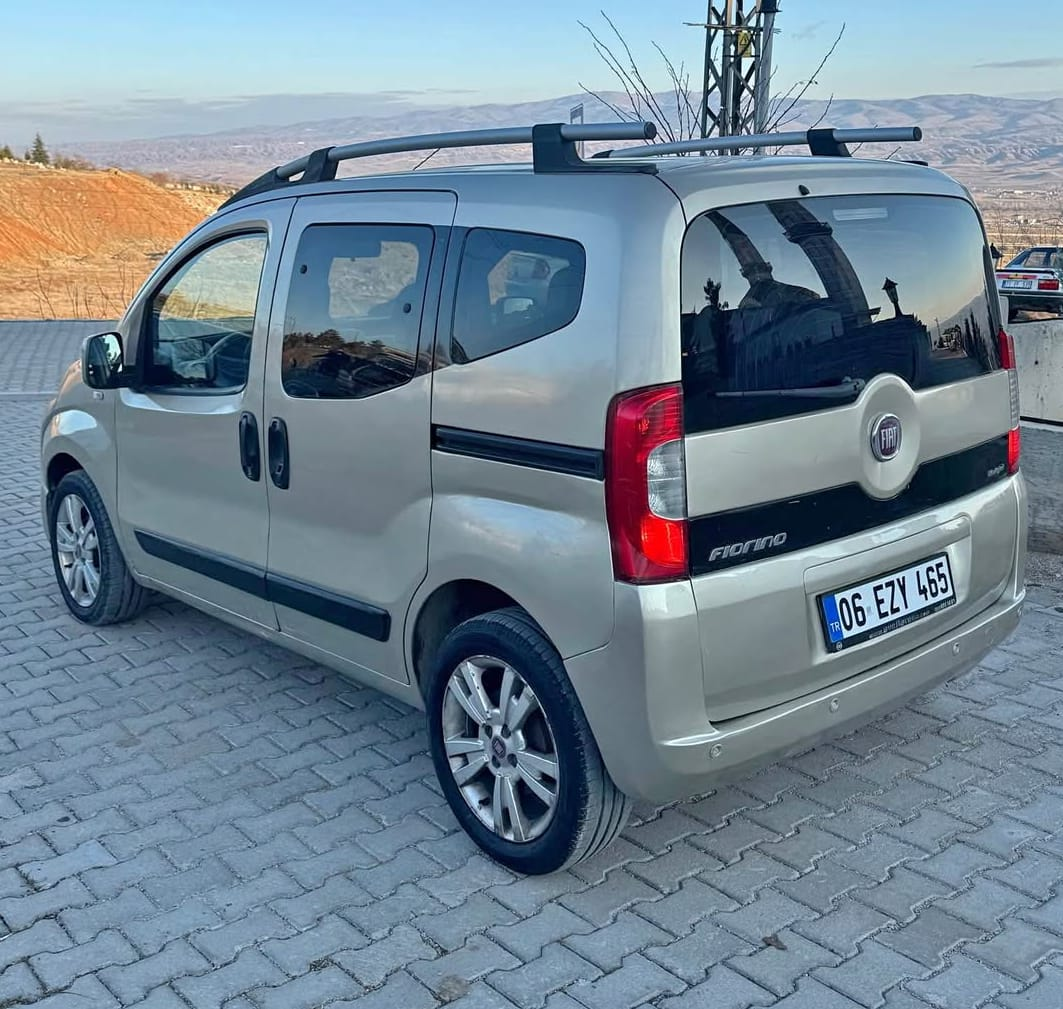plaka: (827, 557, 955, 649)
